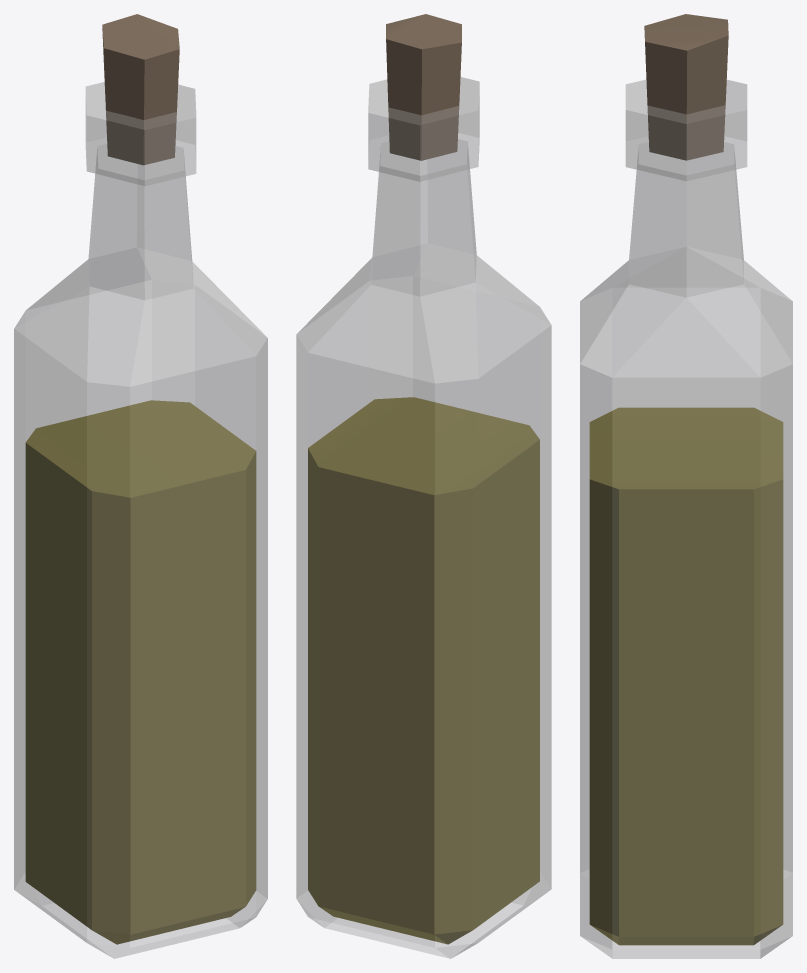
Rendered from syrup.glb.
3 renders of one model, left to right at view 1: azimuth 30°, elevation 25°; view 2: azimuth 150°, elevation 25°; view 3: azimuth 270°, elevation 25°, orthographic.
Parts seen in each view (by area): view 1: SM_Prop_Cafe_Oil_Bottle_03; view 2: SM_Prop_Cafe_Oil_Bottle_03; view 3: SM_Prop_Cafe_Oil_Bottle_03.
Part boxes in pixels (box(x1,y1,x2,y2)): SM_Prop_Cafe_Oil_Bottle_03: box(14, 14, 267, 958); SM_Prop_Cafe_Oil_Bottle_03: box(296, 14, 551, 958); SM_Prop_Cafe_Oil_Bottle_03: box(580, 14, 792, 958).
Size of the model in its own units: 0.0745 by 0.3481 by 0.0745.
Materials: 2 (1 with a texture image).
